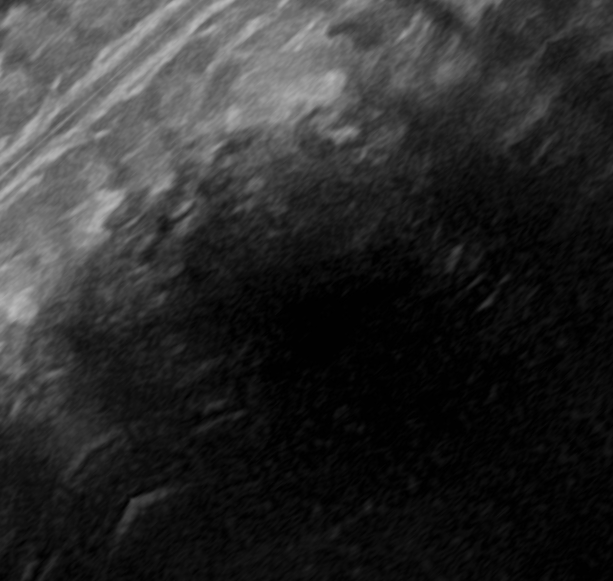Normal: (1, 0, 613, 530)
